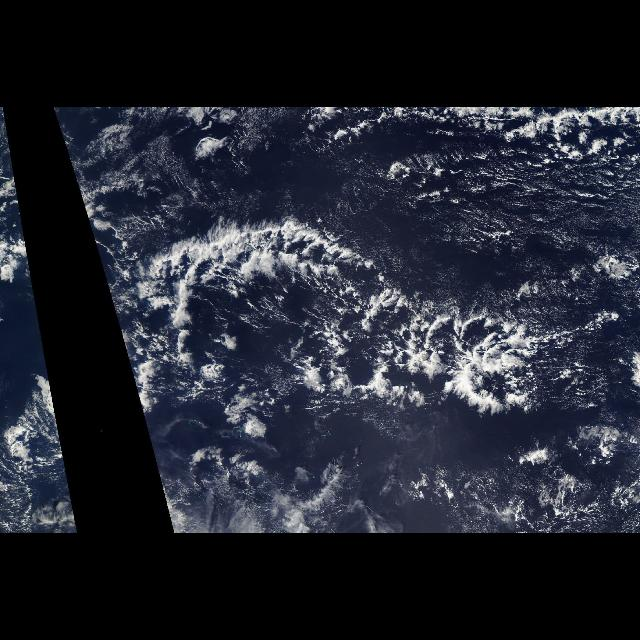Fish: (52, 108, 640, 524), (3, 108, 77, 524)
Sugar: (352, 158, 638, 290), (92, 108, 300, 210)
